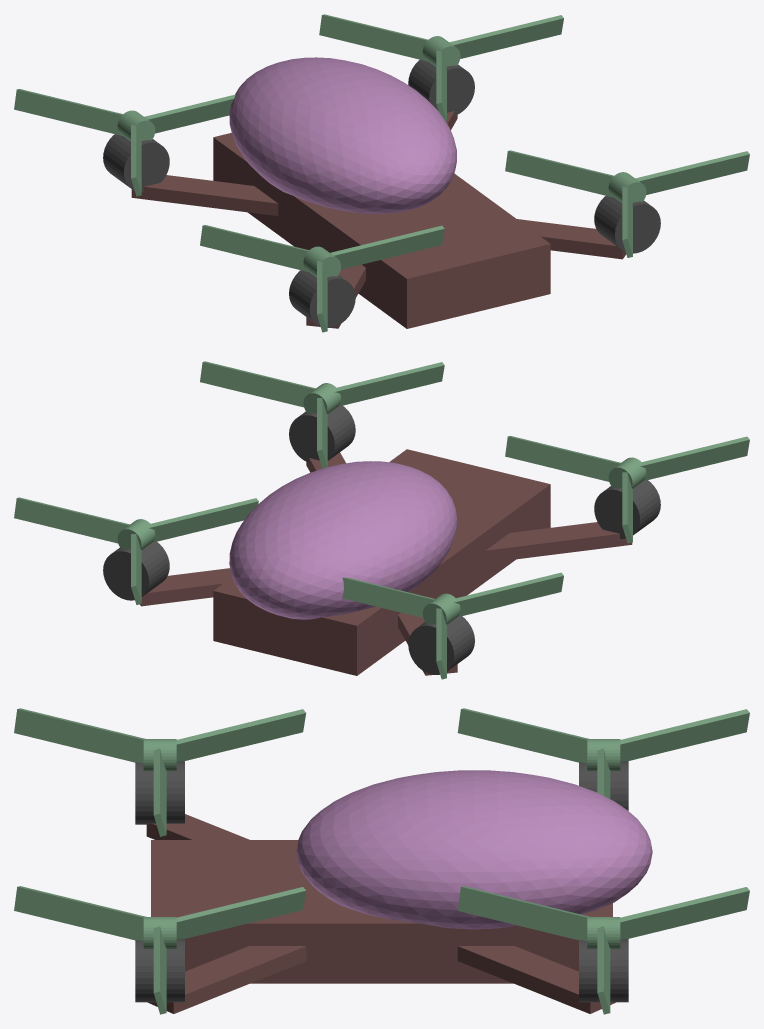
Rendered from Tazmanian.glb.
3 views of the same model, one above another, from view 1: azimuth 30°, elevation 25°; view 2: azimuth 150°, elevation 25°; view 3: azimuth 270°, elevation 25° (orthographic). The views are drawn at different scales.
Parts seen in each view (by area): view 1: canopy, frame_body, prop_2, prop_0, prop_1, prop_3, arm_3, motor_2, motor_0, motor_3, arm_0, motor_1 (+1 smaller); view 2: canopy, frame_body, prop_2, prop_0, prop_1, prop_3, arm_2, motor_1, motor_3, motor_0, motor_2, arm_1 (+1 smaller); view 3: canopy, frame_body, prop_1, prop_2, prop_0, prop_3, arm_1, arm_0, motor_0, motor_1, motor_2, arm_2 (+1 smaller).
Boxes of the visible parts, x1=… form: canopy: x1=229, y1=57, x2=456, y2=213; frame_body: x1=213, y1=133, x2=550, y2=328; prop_2: x1=200, y1=225, x2=444, y2=332; prop_0: x1=505, y1=150, x2=749, y2=257; prop_1: x1=319, y1=14, x2=563, y2=120; prop_3: x1=14, y1=89, x2=235, y2=196; arm_3: x1=131, y1=175, x2=278, y2=215; motor_2: x1=289, y1=270, x2=355, y2=327; motor_0: x1=594, y1=196, x2=660, y2=253; motor_3: x1=103, y1=134, x2=169, y2=191; arm_0: x1=517, y1=219, x2=626, y2=259; motor_1: x1=408, y1=60, x2=474, y2=115; canopy: x1=229, y1=461, x2=456, y2=619; frame_body: x1=213, y1=449, x2=550, y2=675; prop_2: x1=505, y1=436, x2=749, y2=543; prop_0: x1=200, y1=361, x2=444, y2=468; prop_1: x1=14, y1=497, x2=258, y2=604; prop_3: x1=342, y1=572, x2=563, y2=679; arm_2: x1=485, y1=522, x2=632, y2=562; motor_1: x1=103, y1=542, x2=169, y2=600; motor_3: x1=408, y1=616, x2=474, y2=674; motor_0: x1=289, y1=405, x2=355, y2=462; motor_2: x1=594, y1=480, x2=660, y2=538; arm_1: x1=140, y1=568, x2=231, y2=606; canopy: x1=296, y1=770, x2=652, y2=929; frame_body: x1=151, y1=840, x2=612, y2=983; prop_1: x1=457, y1=886, x2=749, y2=1014; prop_2: x1=14, y1=708, x2=306, y2=836; prop_0: x1=14, y1=886, x2=306, y2=1014; prop_3: x1=457, y1=708, x2=749, y2=798; arm_1: x1=457, y1=946, x2=615, y2=1013; arm_0: x1=148, y1=946, x2=306, y2=1013; motor_0: x1=135, y1=939, x2=184, y2=1002; motor_1: x1=579, y1=939, x2=628, y2=1002; motor_2: x1=135, y1=761, x2=184, y2=824; arm_2: x1=146, y1=814, x2=249, y2=839.
Size of the model in its own units: 0.2041 by 0.0516 by 0.2229.
